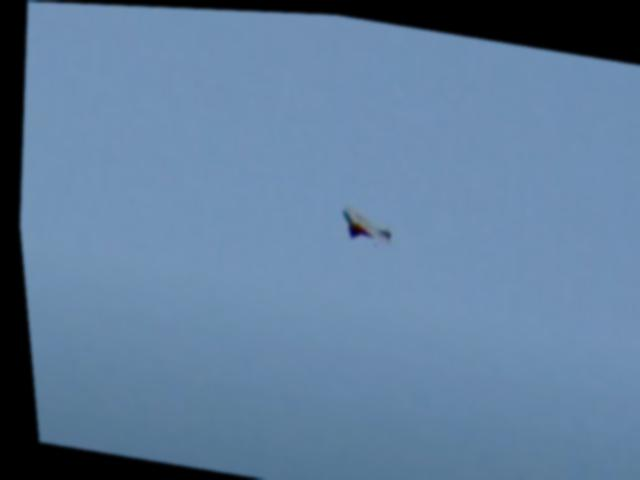iha: (334, 203, 391, 245)
